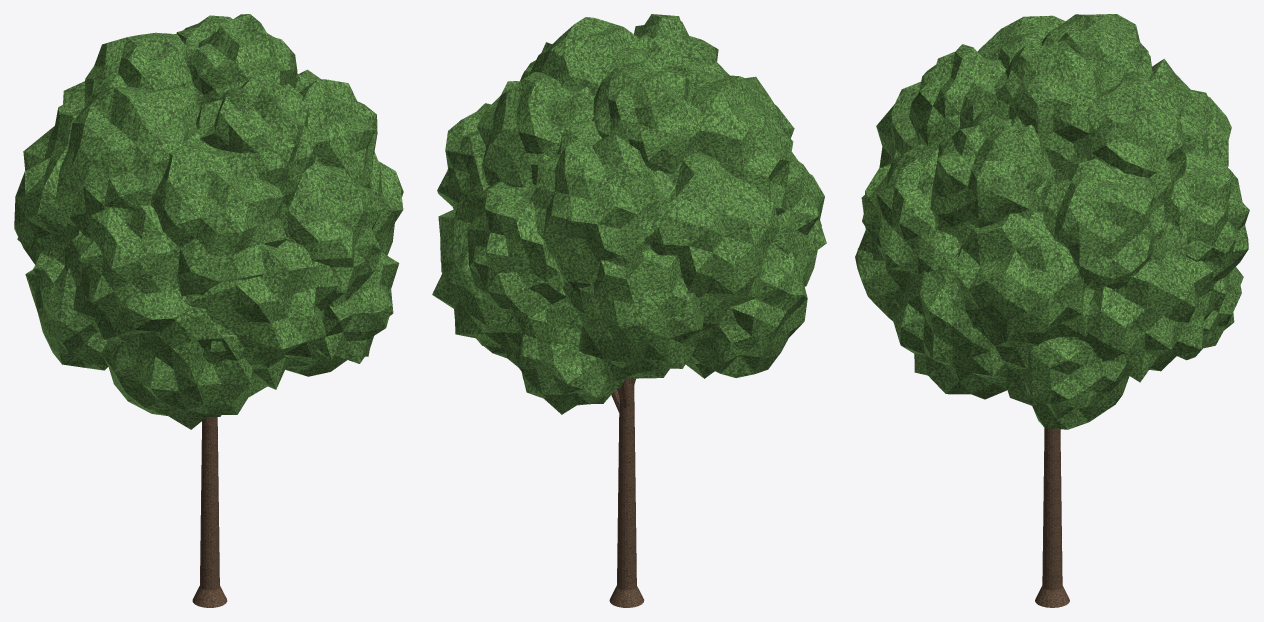
3 views of the same model, side by side, from view 1: azimuth 30°, elevation 25°; view 2: azimuth 150°, elevation 25°; view 3: azimuth 270°, elevation 25° (orthographic).
Visible parts, largest first — view 1: canopyDiameter=5;clearTrunkHeight=2.2;foliageMaterial=foliag (×2); view 2: canopyDiameter=5;clearTrunkHeight=2.2;foliageMaterial=foliag (×2); view 3: canopyDiameter=5;clearTrunkHeight=2.2;foliageMaterial=foliag (×2).
Boxes of the visible parts, <box> form: canopyDiameter=5;clearTrunkHeight=2.2;foliageMaterial=foliag (×2): <box>14,14,403,607</box>; canopyDiameter=5;clearTrunkHeight=2.2;foliageMaterial=foliag (×2): <box>432,14,826,607</box>; canopyDiameter=5;clearTrunkHeight=2.2;foliageMaterial=foliag (×2): <box>855,14,1249,607</box>.
Size of the model in its own units: 5 by 5 by 8.
2 materials, 2 textured.
